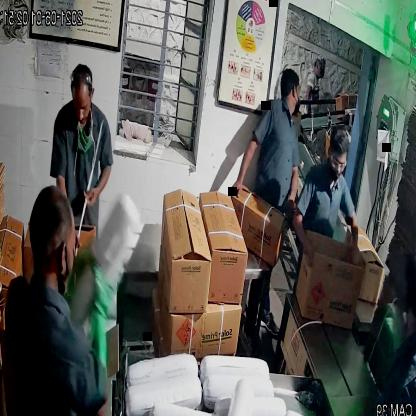goggles: (327, 150, 350, 179)
no_goggles: (66, 94, 98, 119)
